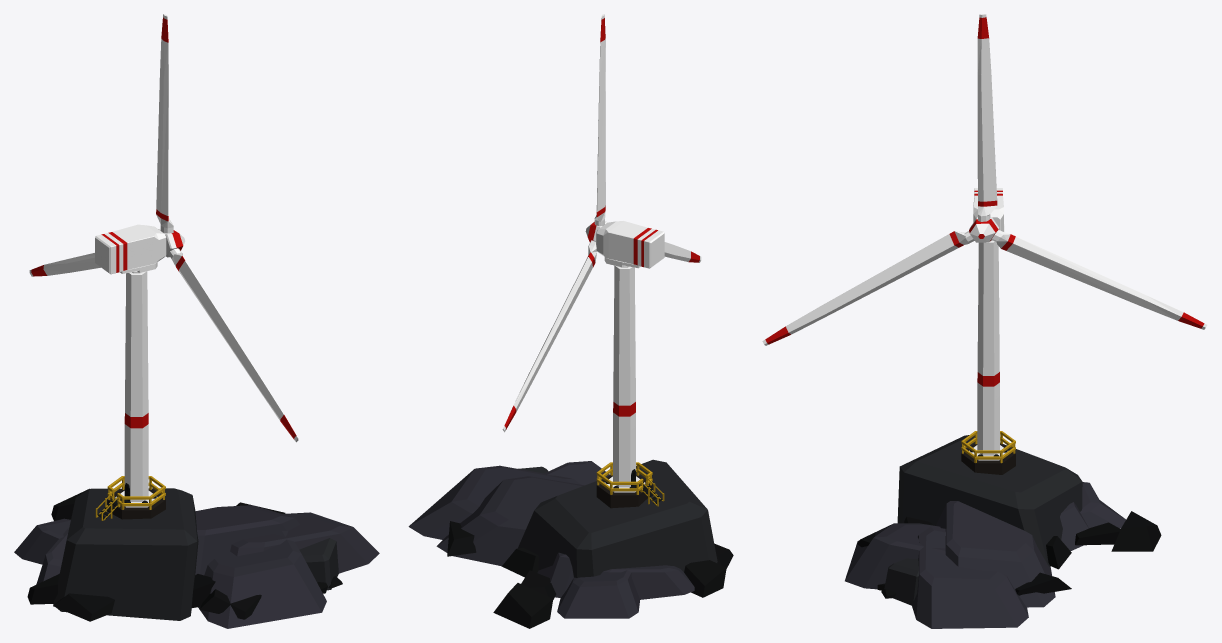
The model's file is WindPower2.FBX.
The picture shows the model from 3 angles, left to right: view 1: azimuth 30°, elevation 25°; view 2: azimuth 150°, elevation 25°; view 3: azimuth 270°, elevation 25°; orthographic projection. The views are drawn at different scales.
Visible parts, largest first — view 1: Cube, Blade3, Blade1, Blade2; view 2: Cube, Blade2, Blade3, Blade1; view 3: Cube, Blade3, Blade2, Blade1.
Boxes of the visible parts, x1,y1,x2,y2 form: Cube: [14, 224, 379, 628]; Blade3: [156, 14, 173, 233]; Blade1: [168, 248, 298, 442]; Blade2: [29, 253, 100, 276]; Cube: [408, 221, 733, 628]; Blade2: [502, 240, 597, 432]; Blade3: [594, 14, 605, 226]; Blade1: [664, 242, 701, 262]; Cube: [845, 188, 1161, 628]; Blade3: [977, 14, 997, 221]; Blade2: [991, 230, 1207, 329]; Blade1: [762, 231, 974, 345].
Size of the model in its own units: 2241 by 2902 by 3812.
